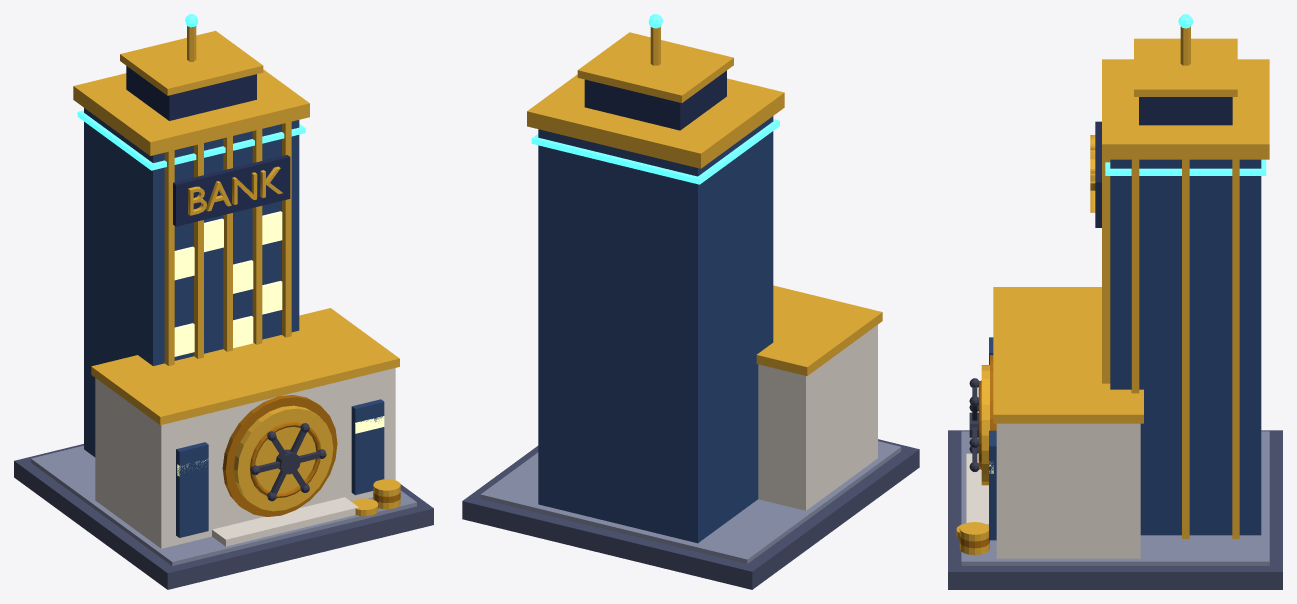
File: bank.glb
3 renders of one model, left to right at view 1: azimuth 30°, elevation 25°; view 2: azimuth 150°, elevation 25°; view 3: azimuth 270°, elevation 25°, orthographic. The views are drawn at different scales.
Parts seen in each view (by area): view 1: Bank; view 2: Bank; view 3: Bank.
Part boxes in pixels (bbox=[...]): Bank: bbox=[14, 14, 433, 589]; Bank: bbox=[462, 14, 919, 589]; Bank: bbox=[948, 14, 1282, 589].
Bounding box in the file's own units: 2 × 3.33 × 2.
